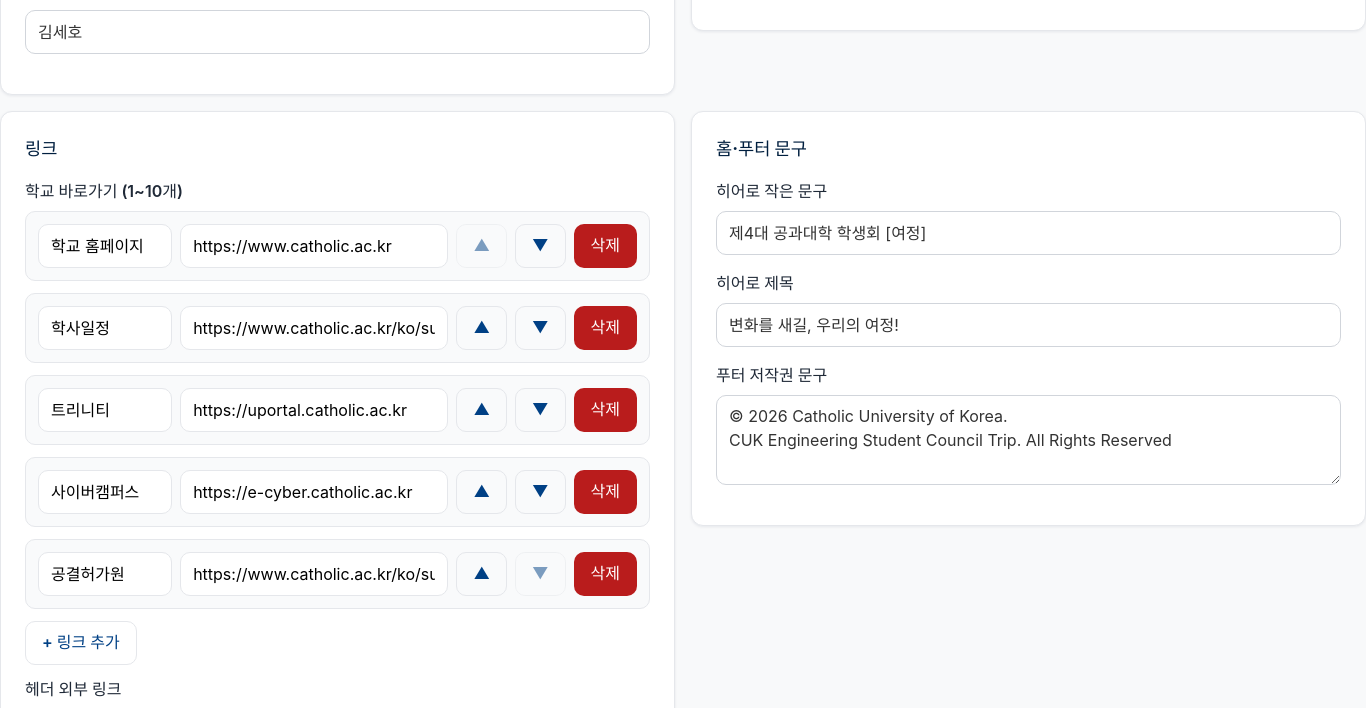
AdminSiteInfoPage › tracks changes and sends only changed keys
This screenshot has width=1366, height=708.
(page scrolled)
Replace the text in the field labelled "히어로 제목" with "새 문구" at point(1028, 325), box [716,303,1341,347]
(page scrolled)
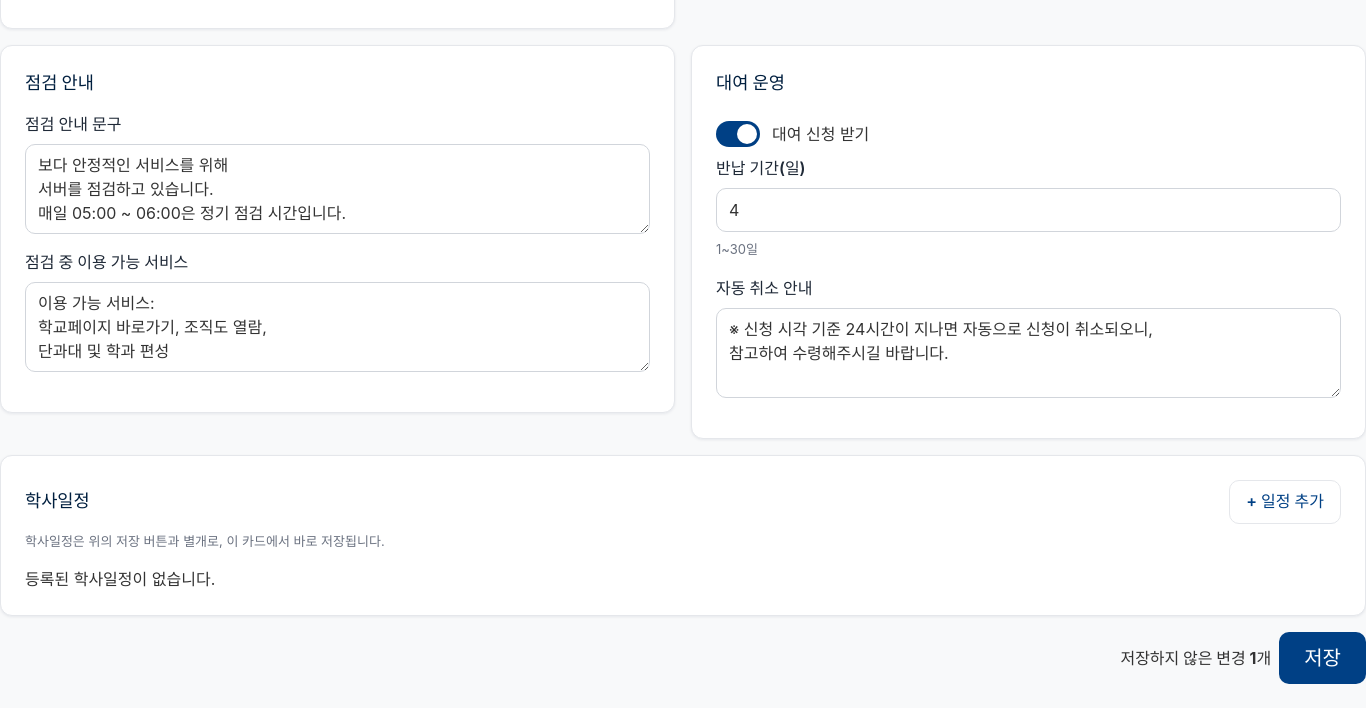
Expected: the text "저장하지 않은 변경 1개" is shown, [1120,646,1271,670]
Click the button "저장".
click(1323, 658)  # box [1279,632,1365,684]
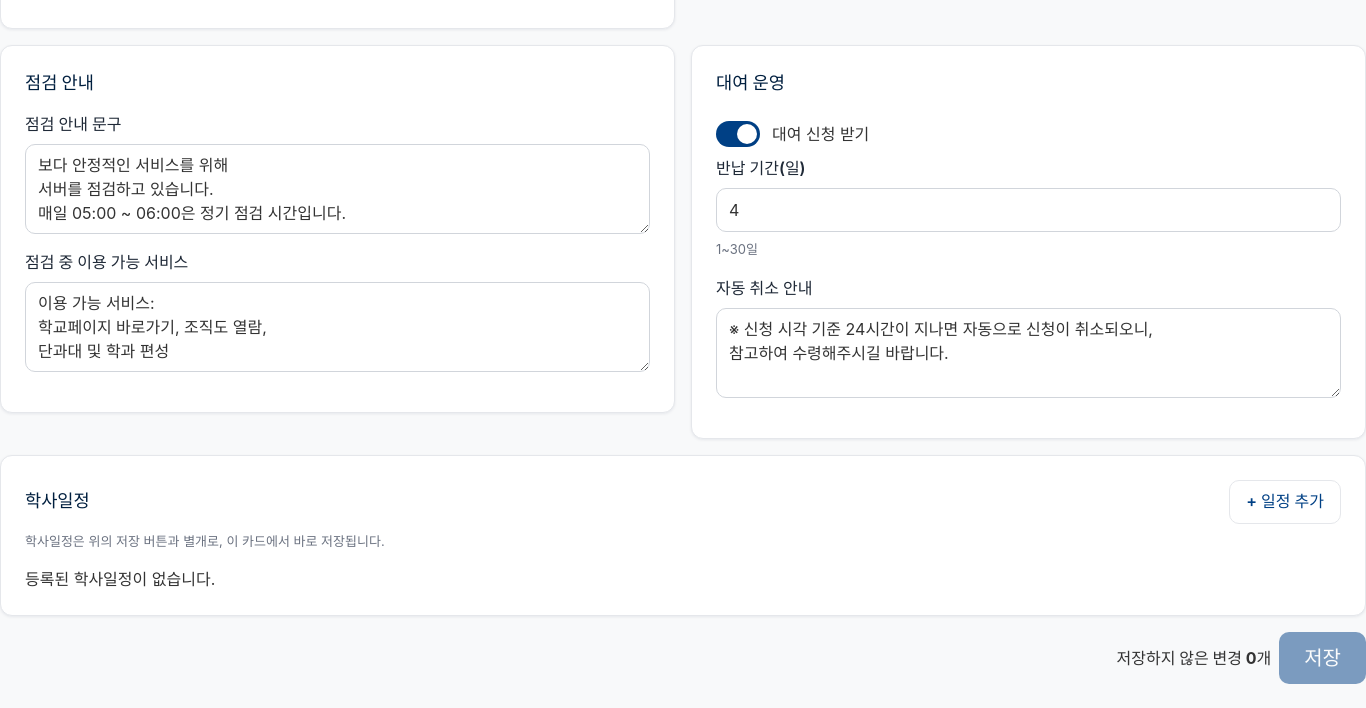
Expected: the text "저장하지 않은 변경 0개" is shown, [1116,646,1271,670]
